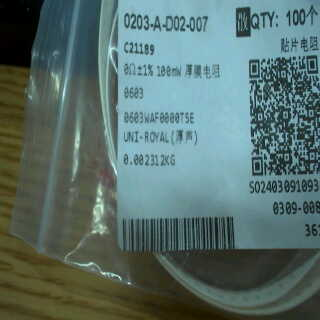0R: (123, 61, 185, 105)
